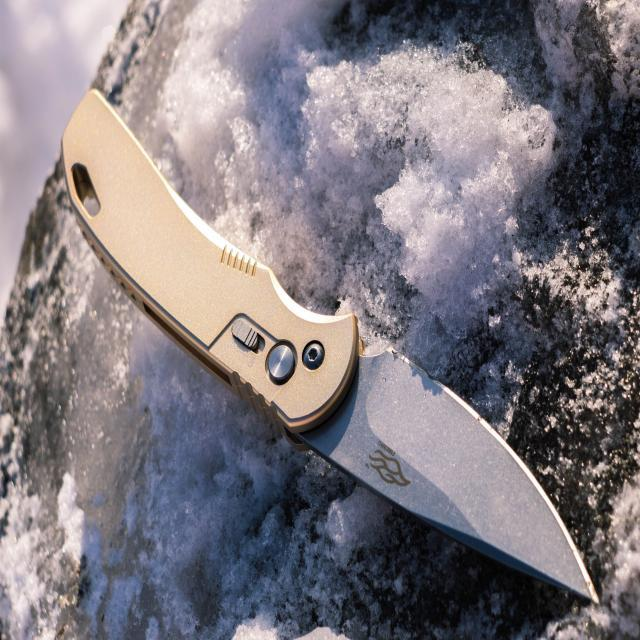Knife: (62, 90, 598, 601)
